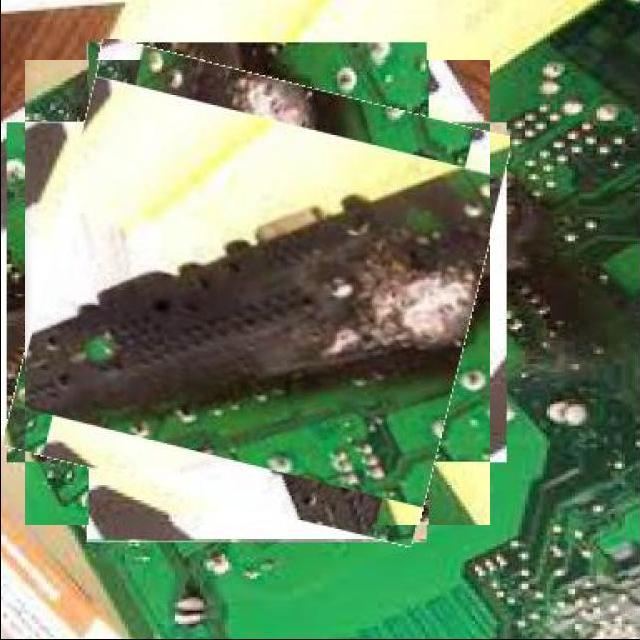damged: (25, 60, 490, 525)
